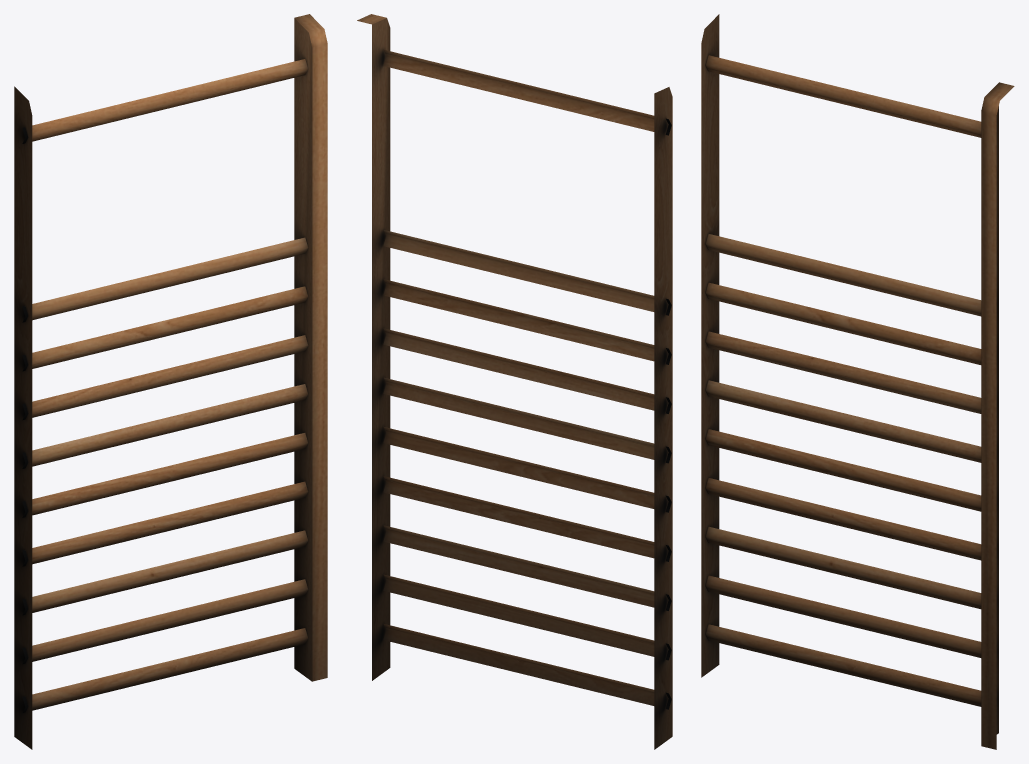
The model's file is wooden_leader_02.fbx.
The picture shows the model from 3 angles, left to right: view 1: azimuth 30°, elevation 25°; view 2: azimuth 150°, elevation 25°; view 3: azimuth 330°, elevation 25°; orthographic projection.
Parts seen in each view (by area): view 1: Cube_003; view 2: Cube_003; view 3: Cube_003.
Part boxes in pixels (x1=…): Cube_003: x1=14, y1=14, x2=327, y2=749; Cube_003: x1=357, y1=14, x2=672, y2=749; Cube_003: x1=701, y1=14, x2=1014, y2=749.
Size of the model in its own units: 1.92 by 4 by 0.2.
